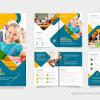paper: (0, 5, 100, 87)
